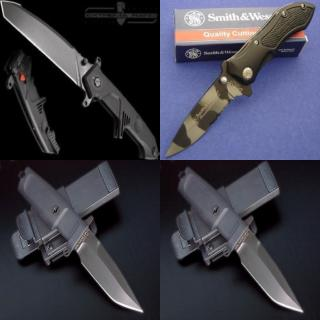knife: (0, 0, 160, 160), (61, 212, 146, 316), (222, 212, 306, 316), (163, 65, 245, 159)
